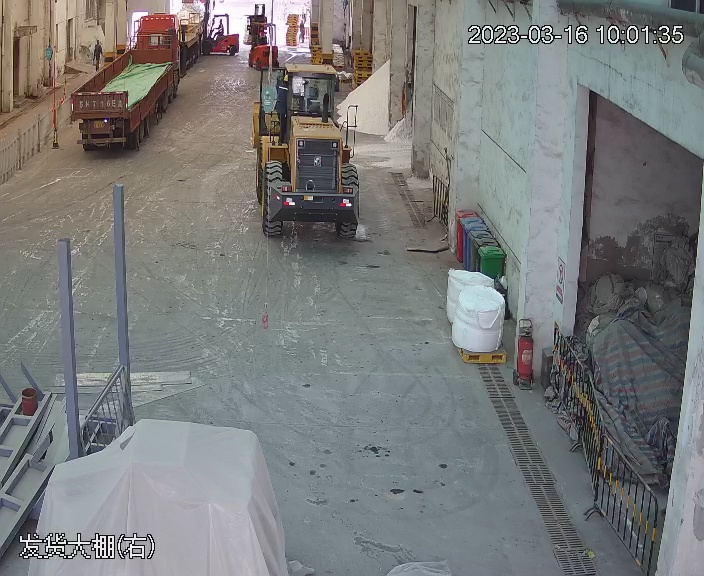truck: (66, 4, 199, 155)
